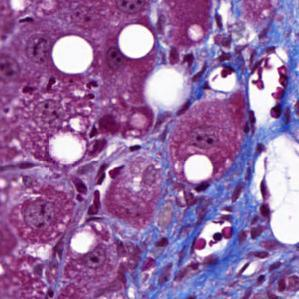ballooning: (143, 63, 194, 116)
